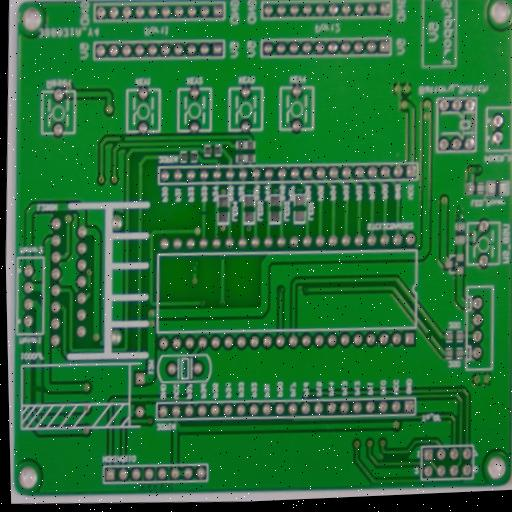open_circuit: (32, 382, 43, 395), (196, 208, 209, 218), (423, 330, 434, 339), (85, 284, 92, 296), (119, 133, 127, 142)
